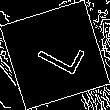L_NW: (26, 29, 84, 81)
